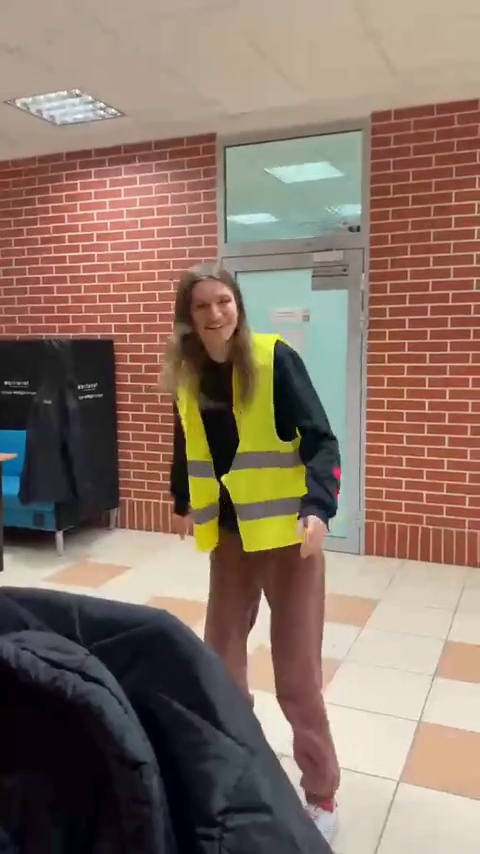vest: (160, 265, 342, 834)
